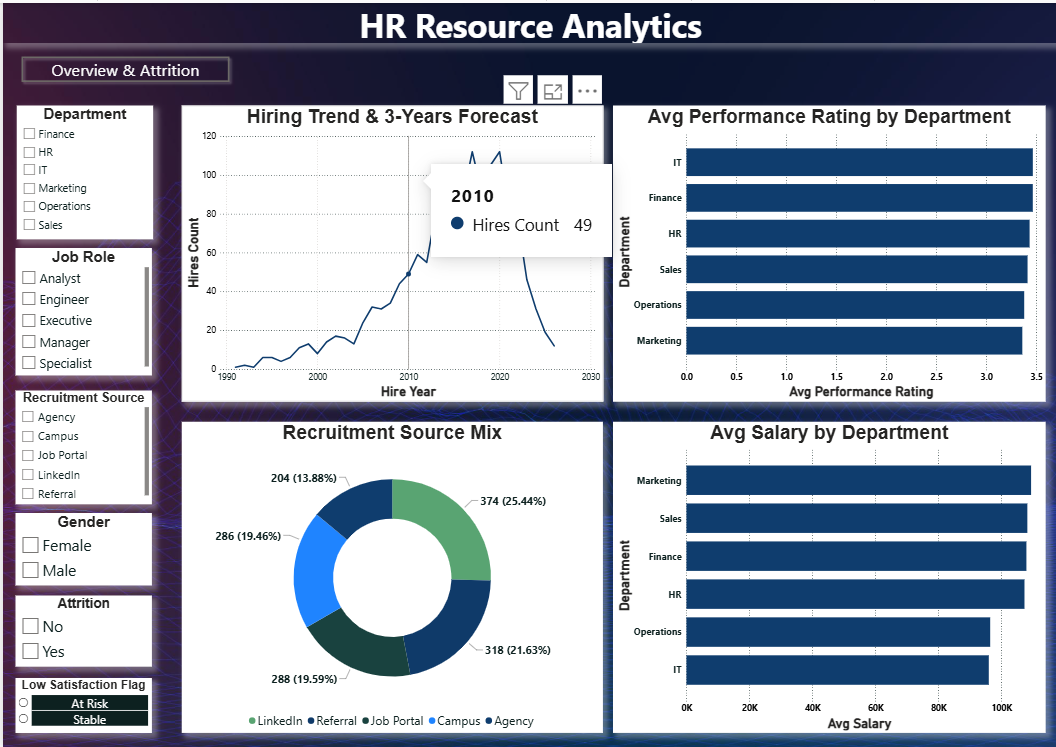

Layout of this report page (visuals, bound fields, positions):
{"tool":"powerbi","page":{"name":"Recruitment & Forecasting","canvas":[1980,1400],"ordinal":1},"visuals":[{"type":"lineChart","title":"Hiring Trend & 3-Years Forecast","fields":{"Category":["HR Resource Analytics.Hire Year"],"Y":["HR Resource Analytics.Hires Count"]},"box":[335.5,192.4,790.6,556],"z":0},{"type":"listSlicer","fields":{"Values":["HR Resource Analytics.Low Satisfaction Flag"]},"box":[23.5,1266.8,255.7,103.2],"z":1000},{"type":"slicer","title":"Attrition","fields":{"Values":["HR Resource Analytics.Attrition"]},"box":[23.5,1111.9,255.7,133.7],"z":2000},{"type":"slicer","title":"Gender","fields":{"Values":["HR Resource Analytics.Gender"]},"box":[23.5,957.1,255.7,136.1],"z":3000},{"type":"slicer","title":"Recruitment Source","fields":{"Values":["HR Resource Analytics.RecruitmentSource"]},"box":[23.5,727.2,255.7,213.5],"z":4000},{"type":"slicer","title":"Job Role","fields":{"Values":["HR Resource Analytics.JobRole"]},"box":[23.5,459.8,255.7,239.3],"z":5000},{"type":"slicer","title":"Department","fields":{"Values":["HR Resource Analytics.Department"]},"box":[25.8,192.4,255.7,251],"z":6000},{"type":"donutChart","title":"Recruitment Source Mix","fields":{"Category":["HR Resource Analytics.RecruitmentSource"],"Y":["HR Resource Analytics.Employees by Source"]},"box":[335.5,785.9,790.6,584.1],"z":7000},{"type":"clusteredBarChart","fields":{"Category":["HR Resource Analytics.Department"],"Y":["HR Resource Analytics.Avg Performance Rating"]},"box":[1144.8,192.4,811.7,556],"z":8000},{"type":"clusteredBarChart","fields":{"Y":["HR Resource Analytics.Avg Salary"],"Category":["HR Resource Analytics.Department"]},"box":[1145,786,812,584],"z":9000},{"type":"shape","title":"HR Resources Analytics","box":[0,0,1979.9,75.1],"z":10000},{"type":"actionButton","box":[25.8,91.5,408.2,65.7],"z":11000}]}

Visuals, with their boxes in screenshot pixels (x1, y1, x2, y2), scaled from the page's 1980x1400 canvas onto the 1056x747 screenshot:
"Hiring Trend & 3-Years Forecast" lineChart: (179, 103, 601, 399)
listSlicer - HR Resource Analytics.Low Satisfaction Flag: (13, 676, 149, 731)
"Attrition" slicer: (13, 593, 149, 665)
"Gender" slicer: (13, 511, 149, 583)
"Recruitment Source" slicer: (13, 388, 149, 502)
"Job Role" slicer: (13, 245, 149, 373)
"Department" slicer: (14, 103, 150, 237)
"Recruitment Source Mix" donutChart: (179, 419, 601, 731)
clusteredBarChart - HR Resource Analytics.Department x HR Resource Analytics.Avg Performance Rating: (611, 103, 1043, 399)
clusteredBarChart - HR Resource Analytics.Avg Salary x HR Resource Analytics.Department: (611, 419, 1044, 731)
"HR Resources Analytics" shape: (0, 0, 1055, 40)
actionButton: (14, 49, 231, 84)
